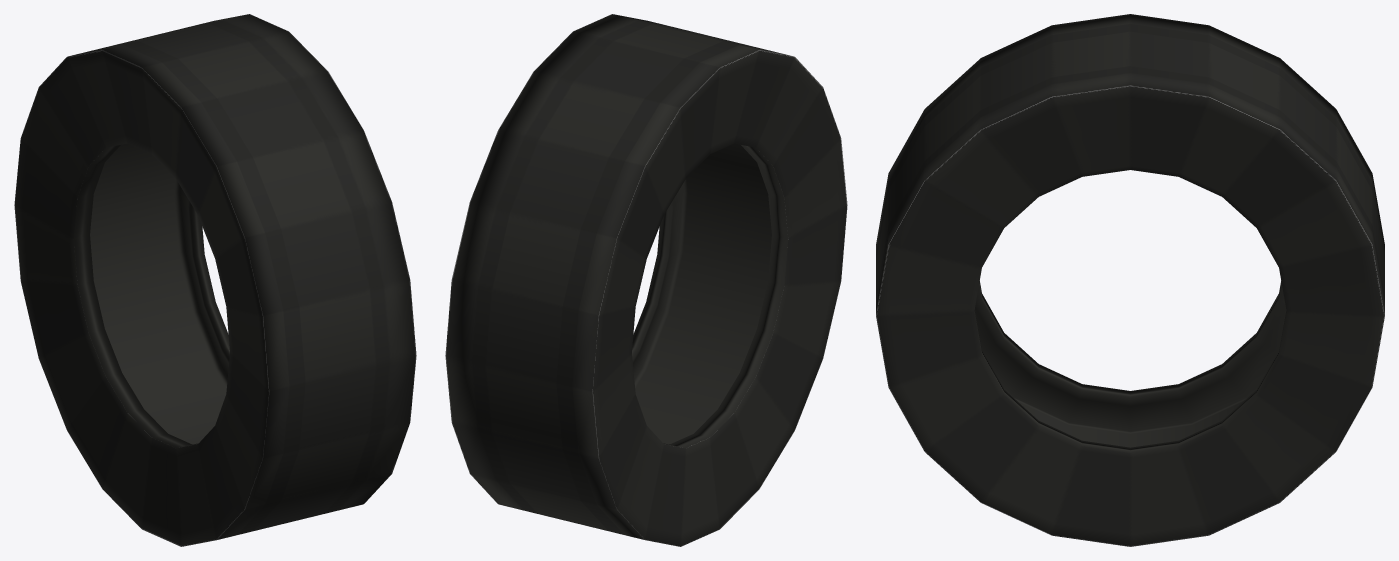
File: giulonh.fbx
3 renders of one model, left to right at view 1: azimuth 30°, elevation 25°; view 2: azimuth 150°, elevation 25°; view 3: azimuth 270°, elevation 25°, orthographic.
Visible parts, largest first — view 1: Cylinder; view 2: Cylinder; view 3: Cylinder.
Boxes of the visible parts, <box> form: Cylinder: <box>14,14,416,546</box>; Cylinder: <box>445,14,847,546</box>; Cylinder: <box>876,14,1384,546</box>.
Size of the model in its own units: 110 by 330 by 330.
Materials: 1 (1 with a texture image).
